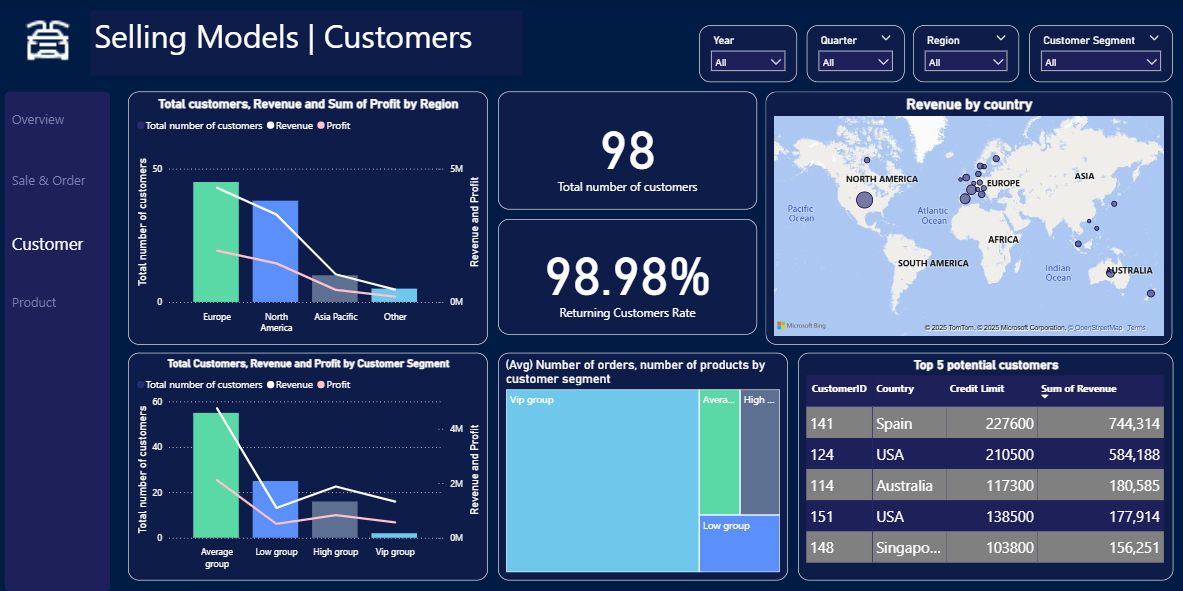

What the dashboard file says about the page in this screenshot:
{"tool":"powerbi","page":{"name":"Customer","canvas":[1600,800],"ordinal":2},"visuals":[{"type":"pivotTable","title":"Top 5 potential customers","fields":{"Values":["Min(customers.country)","Sum(customers.creditLimit)","Sum(orderdetails (2).Revenue)"],"Rows":["customers.customerNumber"]},"box":[1078.9,476.8,506,307],"z":0},{"type":"lineClusteredColumnComboChart","title":"Total customers, Revenue and Sum of Profit by Region","fields":{"Category":["customers.Region"],"Y2":["Sum(orderdetails (2).Revenue)","Sum(orderdetails (2).Profit)"],"Y":["Count(customers.customerNumber)"]},"box":[175,125.2,485.4,341.3],"z":1000},{"type":"map","fields":{"Category":["customers.country"],"Size":["Sum(orderdetails (2).Revenue)"]},"box":[1036,125.2,548.9,341.3],"z":2000},{"type":"slicer","fields":{"Values":["Calendar Table.Year"]},"box":[946.1,35.1,131.7,76.7],"z":3000},{"type":"slicer","fields":{"Values":["Calendar Table.Quarter"]},"box":[1091.1,35.1,131.7,76.7],"z":4000},{"type":"slicer","fields":{"Values":["customers.Region"]},"box":[1234.4,35.1,143.3,76.7],"z":5000},{"type":"lineClusteredColumnComboChart","title":"Total Customers, Revenue and Profit by Customer Segment","fields":{"Category":["customers.Custom"],"Y":["CountNonNull(customers.customerNumber)"],"Y2":["Sum(orderdetails (2).Revenue)","Sum(orderdetails (2).Profit)"]},"box":[175,476.8,485.4,307],"z":6000},{"type":"treemap","title":"(Avg) Number of orders, number of products by customer segment","fields":{"Group":["customers.Customer Segment"],"Values":["customers.Average_order_number"]},"box":[674.1,476.8,391.1,307],"z":7000},{"type":"slicer","fields":{"Values":["customers.Customer Segment"]},"box":[1391.1,35.1,193.3,76.7],"z":8000},{"type":"card","fields":{"Values":["Count(orders.customerNumber)"]},"box":[674.1,125.2,349.9,159.5],"z":9000},{"type":"card","fields":{"Values":["customers.ReturningCustomerRate"]},"box":[674.1,296.7,349.9,156.1],"z":10000},{"type":"group","id":"g1","title":"Group 1","box":[8.6,125.2,193.8,674.1],"z":11000},{"type":"textbox","box":[125,15,583.3,88.3],"z":12000},{"type":"image","box":[1.7,15,131.7,83.3],"z":13000},{"type":"shape","box":[8.6,125.2,143,674.1],"z":14000,"group":"g1"},{"type":"pageNavigator","box":[19.4,149.7,172.6,319.8],"z":15000,"group":"g1"}]}

Visuals, with their boxes in screenshot pixels (x1, y1, x2, y2), scaled from the page's 1600x800 canvas onto the 1183x591 screenshot:
"Top 5 potential customers" pivotTable: pyautogui.locateOnScreen(798, 352, 1172, 579)
"Total customers, Revenue and Sum of Profit by Region" lineClusteredColumnComboChart: pyautogui.locateOnScreen(129, 92, 488, 345)
map - customers.country x Sum(orderdetails (2).Revenue): pyautogui.locateOnScreen(766, 92, 1172, 345)
slicer - Calendar Table.Year: pyautogui.locateOnScreen(700, 26, 797, 83)
slicer - Calendar Table.Quarter: pyautogui.locateOnScreen(807, 26, 904, 83)
slicer - customers.Region: pyautogui.locateOnScreen(913, 26, 1019, 83)
"Total Customers, Revenue and Profit by Customer Segment" lineClusteredColumnComboChart: pyautogui.locateOnScreen(129, 352, 488, 579)
"(Avg) Number of orders, number of products by customer segment" treemap: pyautogui.locateOnScreen(498, 352, 788, 579)
slicer - customers.Customer Segment: pyautogui.locateOnScreen(1029, 26, 1171, 83)
card - Count(orders.customerNumber): pyautogui.locateOnScreen(498, 92, 757, 210)
card - customers.ReturningCustomerRate: pyautogui.locateOnScreen(498, 219, 757, 335)
"Group 1" group: pyautogui.locateOnScreen(6, 92, 150, 590)
textbox: pyautogui.locateOnScreen(92, 11, 524, 76)
image: pyautogui.locateOnScreen(1, 11, 99, 73)
shape: pyautogui.locateOnScreen(6, 92, 112, 590)
pageNavigator: pyautogui.locateOnScreen(14, 111, 142, 347)
